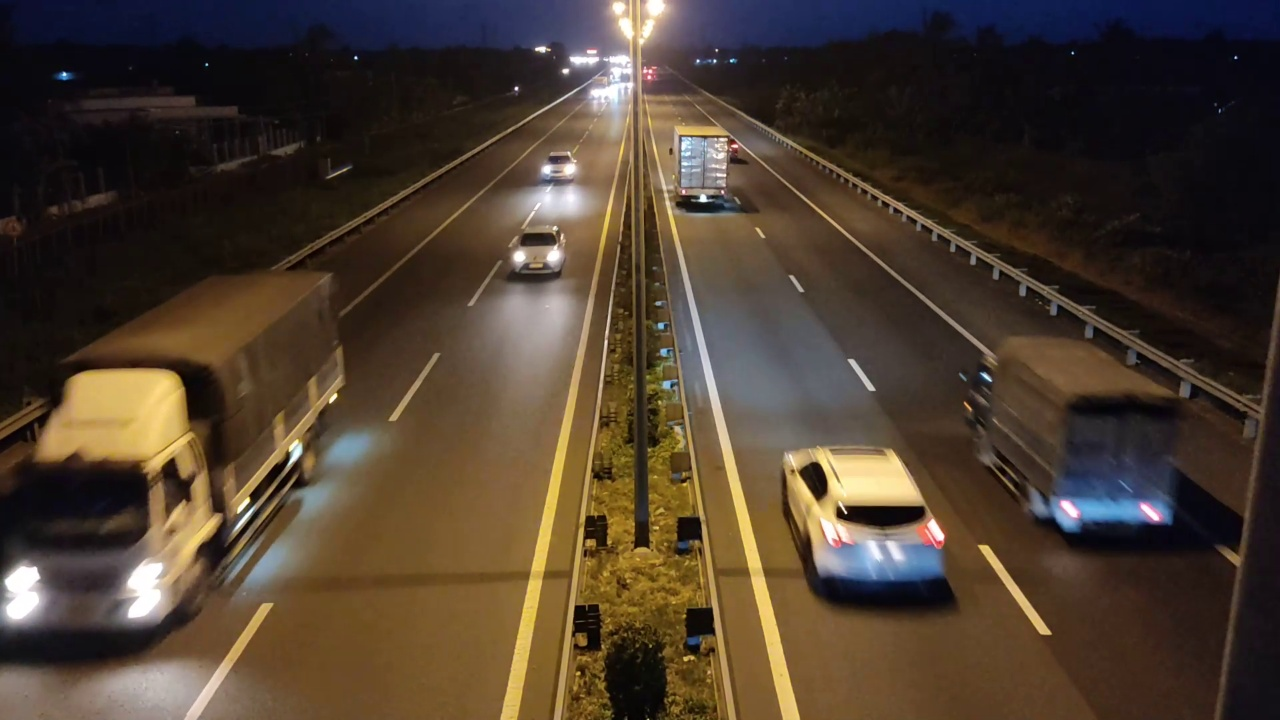car: (780, 443, 952, 604), (505, 224, 567, 280), (539, 151, 579, 184)
truck: (10, 268, 345, 631), (959, 334, 1182, 542)
